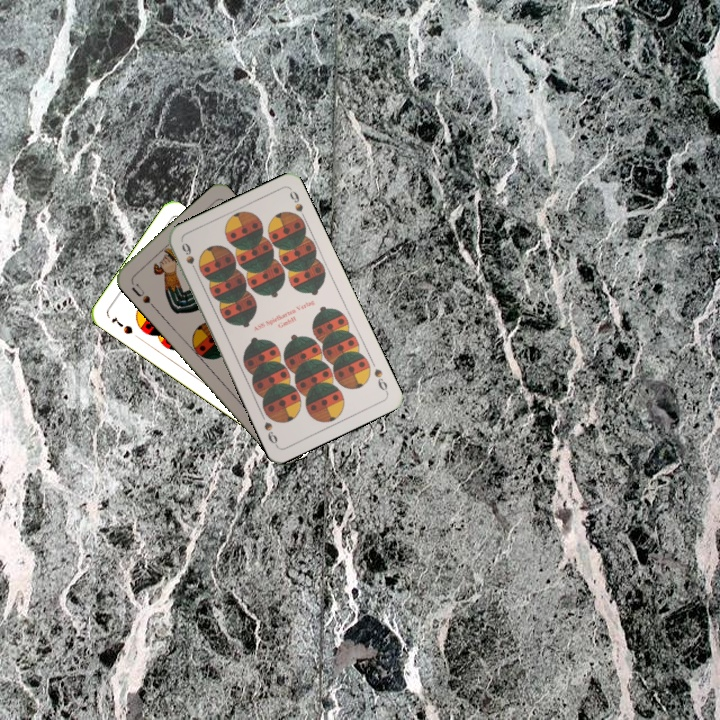S7: (107, 313, 135, 337)
S9: (177, 239, 201, 277), (370, 364, 391, 396)
SU: (128, 279, 158, 311)
